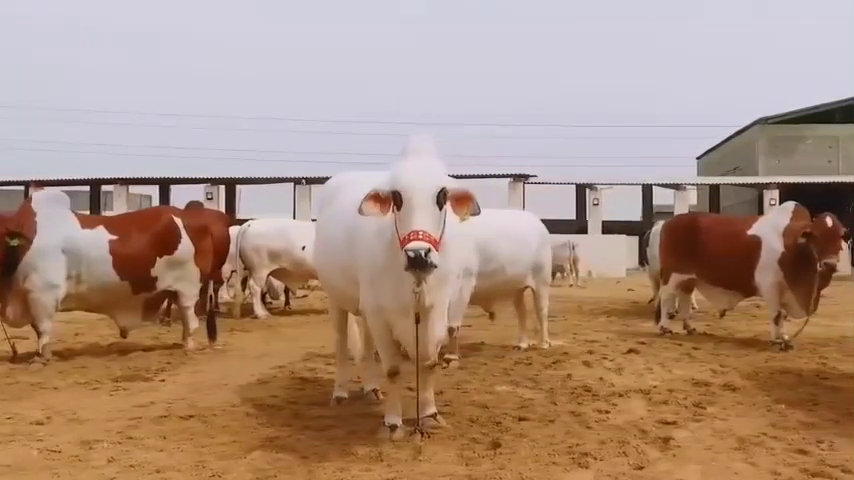bo: (320, 127, 469, 448), (7, 187, 221, 370), (632, 184, 853, 360), (446, 197, 561, 352), (231, 202, 316, 327)
